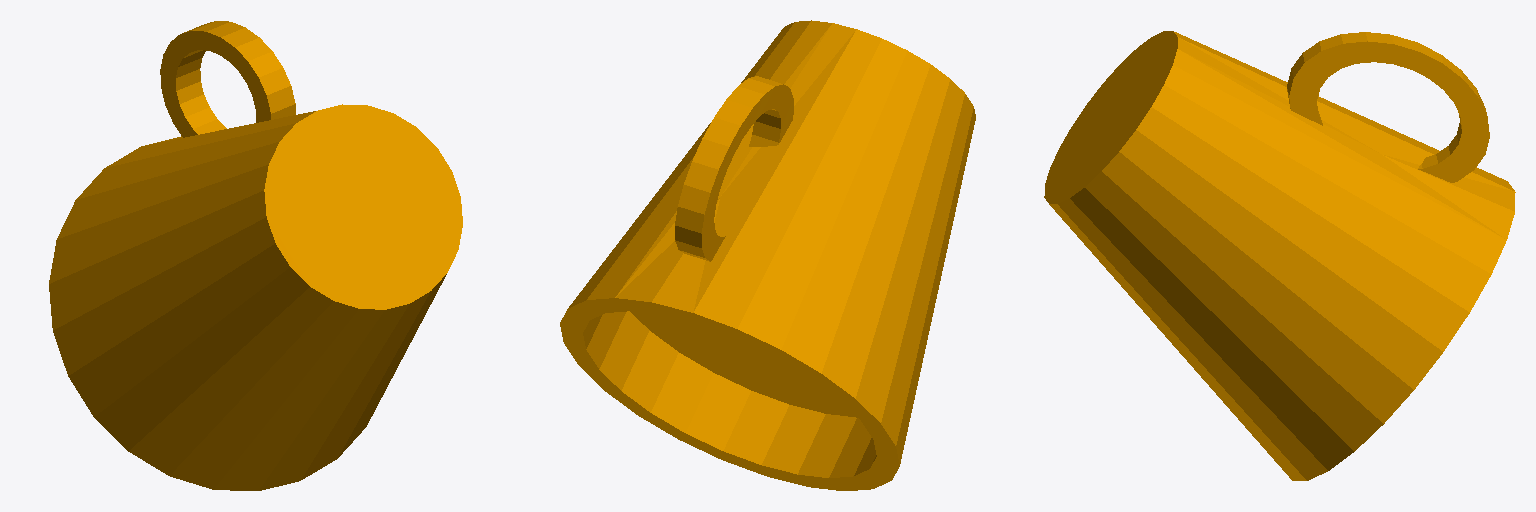
The robot description file, URDF, robot "542235fc88d22e1e3406473757712946":
<?xml version="1.0"?>
<robot name="542235fc88d22e1e3406473757712946">
  <link name="base_link">
    <contact>
      <lateral_friction value="1.0"/>
      <rolling_friction value="0.0"/>
      <contact_cfm value="0.0"/>
      <contact_erp value="1.0"/>
    </contact>
    <inertial>
      <mass value="0.0124440356545"/>
      <inertia ixx="1" ixy="0" ixz="0" iyy="1" iyz="0" izz="1"/>
    </inertial>
    <visual>
      <geometry>
        <mesh filename="542235fc88d22e1e3406473757712946_visual.obj"/>
      </geometry>
    </visual>
    <collision>
      <geometry>
        <mesh filename="542235fc88d22e1e3406473757712946_collision.obj"/>
      </geometry>
    </collision>
  </link>
</robot>

--- Facts derived from the render (not from the file) ---
3 views of the same robot in one strip: view 1: azimuth 30°, elevation 25°; view 2: azimuth 150°, elevation 25°; view 3: azimuth 270°, elevation 25° (orthographic).
Robot: 542235fc88d22e1e3406473757712946 — 1 links, 0 joints (none); root link base_link; default pose: every joint at zero.
Visible links, largest first — view 1: base_link; view 2: base_link; view 3: base_link.
Link boxes in pixels (left/top/right/bottom): base_link: left=49, top=21, right=462, bottom=490; base_link: left=560, top=20, right=975, bottom=490; base_link: left=1044, top=31, right=1515, bottom=480.
Bounding box of the posed robot: 0.0353 × 0.0454 × 0.045 m (x, y, z).
Meshes: 1 distinct files referenced, 1 mesh visuals loaded (1 OBJ).